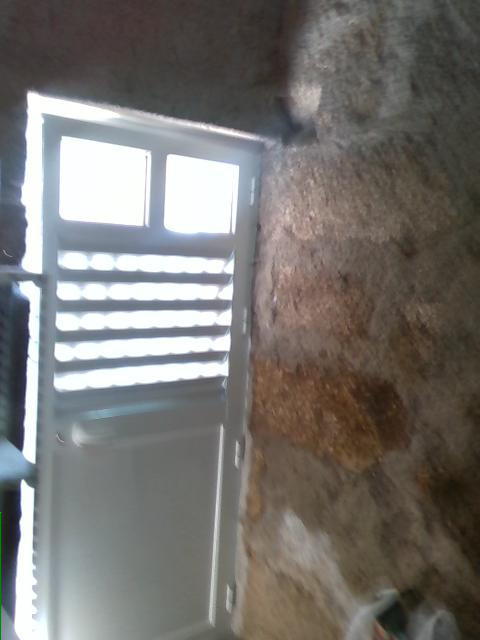door: (32, 112, 265, 639)
